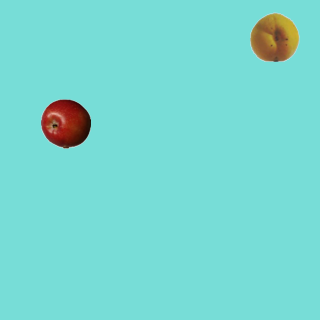Apple Braeburn: (40, 98, 90, 148)
Peach 2: (249, 11, 299, 61)
